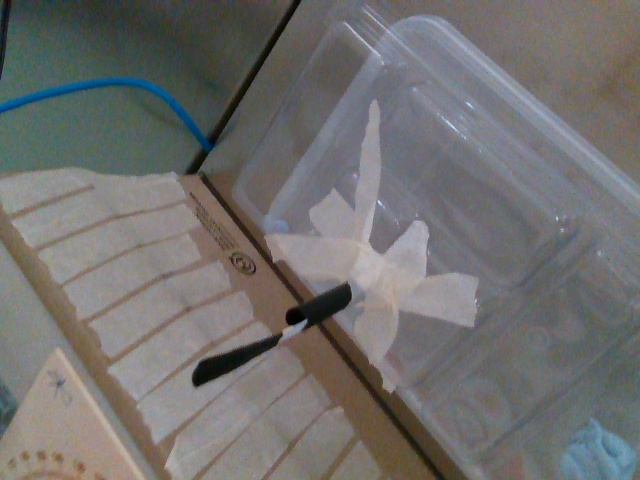test_strip: (192, 318, 306, 386)
